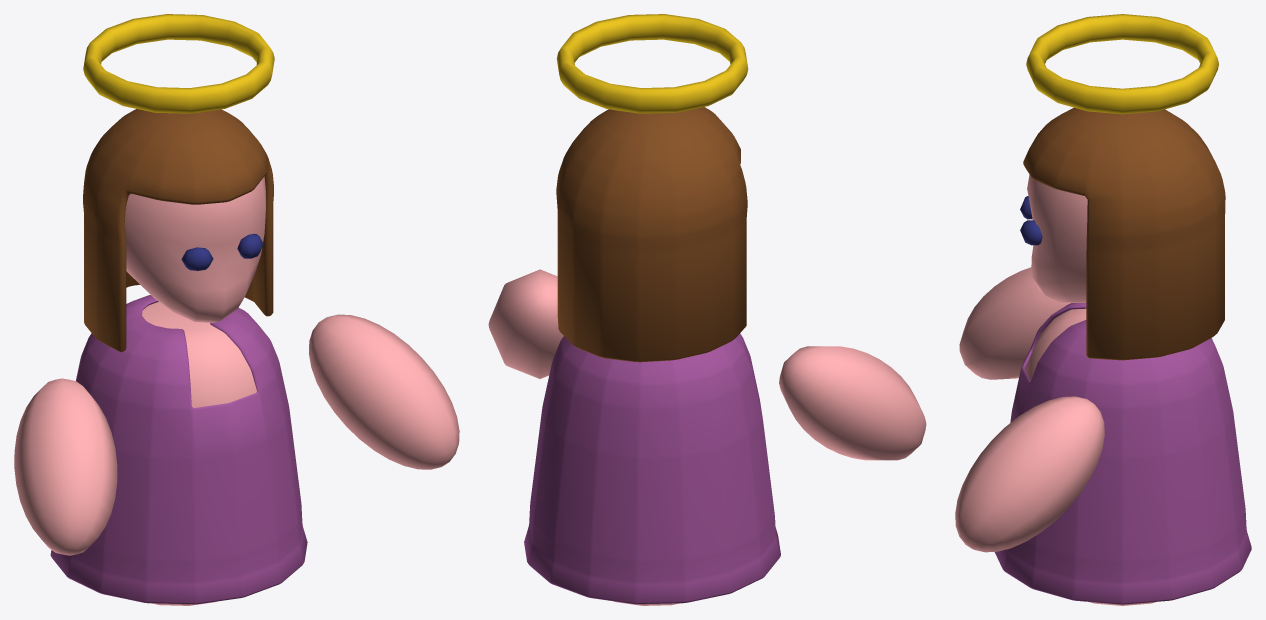
The model's file is pedro_rip_off_1.fbx.
The picture shows the model from 3 angles, left to right: view 1: azimuth 30°, elevation 25°; view 2: azimuth 150°, elevation 25°; view 3: azimuth 270°, elevation 25°; orthographic projection.
Parts seen in each view (by area): view 1: Woman, dress, hair, eyes; view 2: dress, hair, Woman; view 3: dress, Woman, hair, eyes.
Boxes of the visible parts, left/top/right/bottom form: Woman: left=14, top=14, right=459, bottom=605; dress: left=50, top=295, right=307, bottom=604; hair: left=83, top=109, right=273, bottom=352; eyes: left=181, top=233, right=263, bottom=270; dress: left=524, top=333, right=780, bottom=604; hair: left=556, top=107, right=747, bottom=362; Woman: left=488, top=14, right=926, bottom=605; dress: left=994, top=303, right=1251, bottom=604; Woman: left=955, top=14, right=1218, bottom=605; hair: left=1023, top=107, right=1225, bottom=360; eyes: left=1020, top=196, right=1042, bottom=245.
Bounding box in the file's own units: 405 × 490 × 251.
